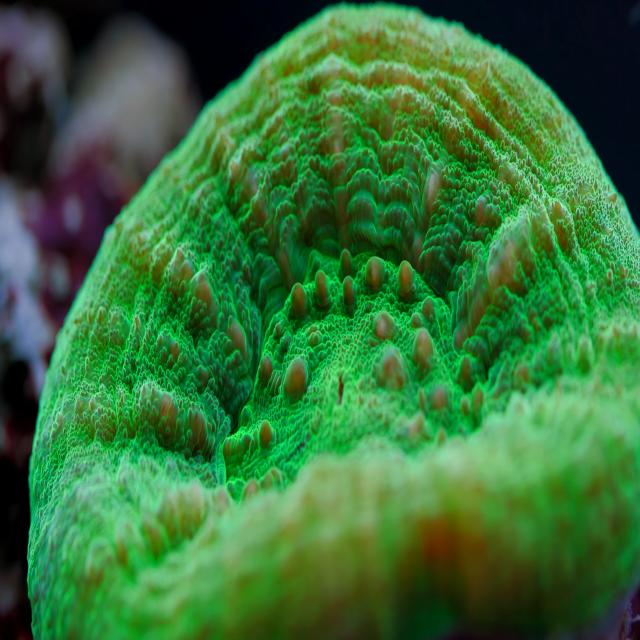Scolymia-Vitiensis -Poisonous-: (28, 5, 640, 640)
